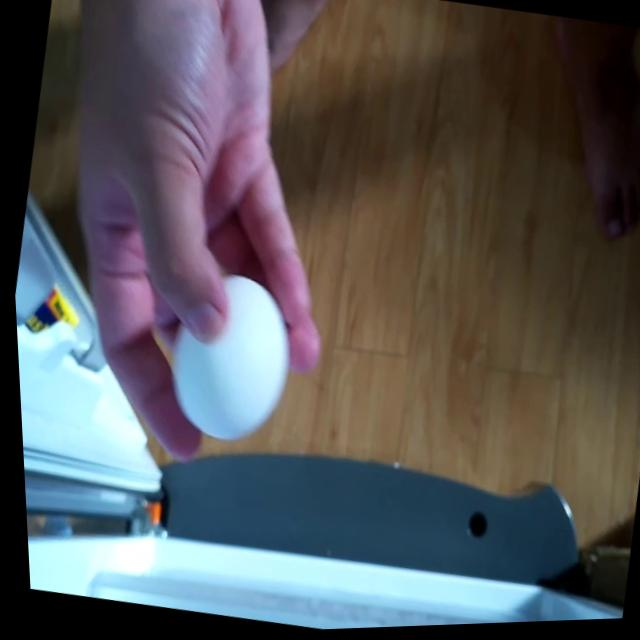egg: (147, 261, 309, 458)
